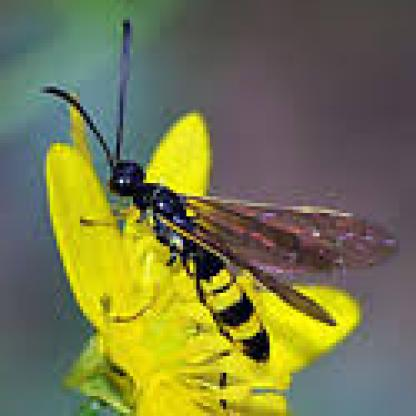sawfly: (48, 15, 396, 364)
